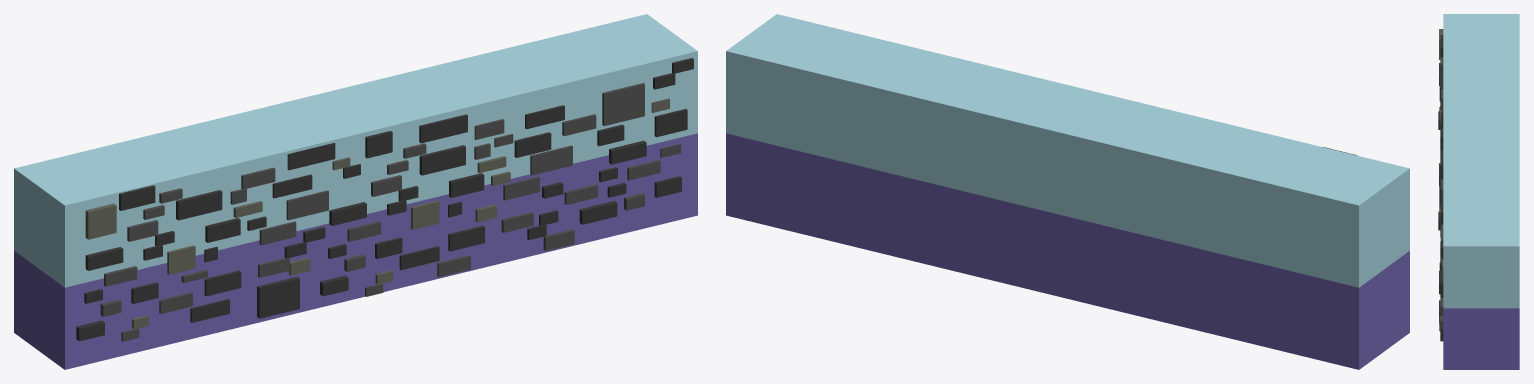
Rendered from towerSquare_middleA(+) 1.fbx.
3 views of the same model, side by side, from view 1: azimuth 30°, elevation 25°; view 2: azimuth 150°, elevation 25°; view 3: azimuth 270°, elevation 25° (orthographic). The views are drawn at different scales.
Parts seen in each view (by area): view 1: towerSquare_middleA.1; view 2: towerSquare_middleA.1; view 3: towerSquare_middleA.1.
Boxes of the visible parts, <box> form: towerSquare_middleA.1: <box>14,14,697,369</box>; towerSquare_middleA.1: <box>726,14,1409,369</box>; towerSquare_middleA.1: <box>1438,14,1519,369</box>.
Size of the model in its own units: 2192 by 544 by 323.
